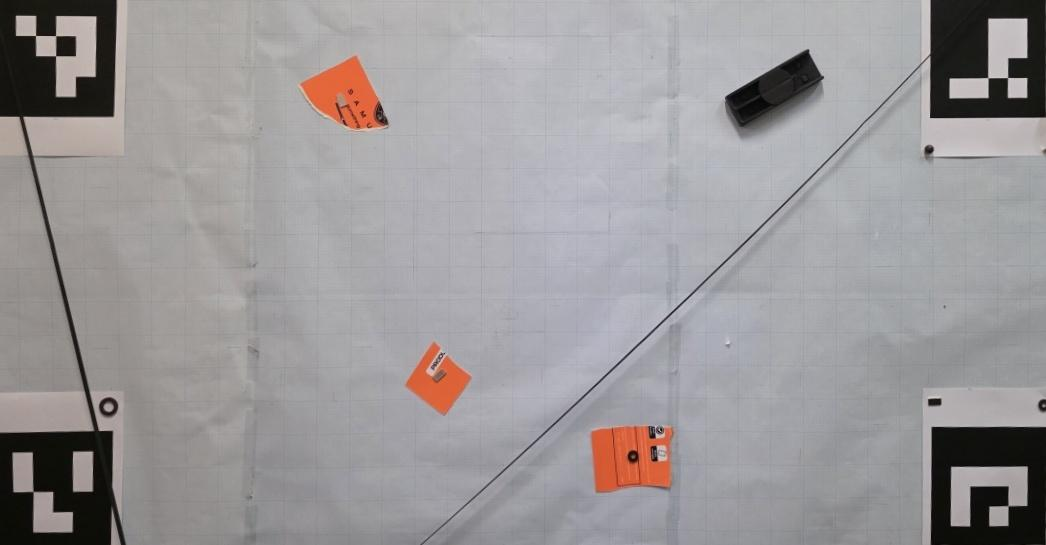obstacle: (724, 50, 828, 127), (297, 56, 390, 132), (590, 426, 675, 491), (404, 342, 472, 416)
